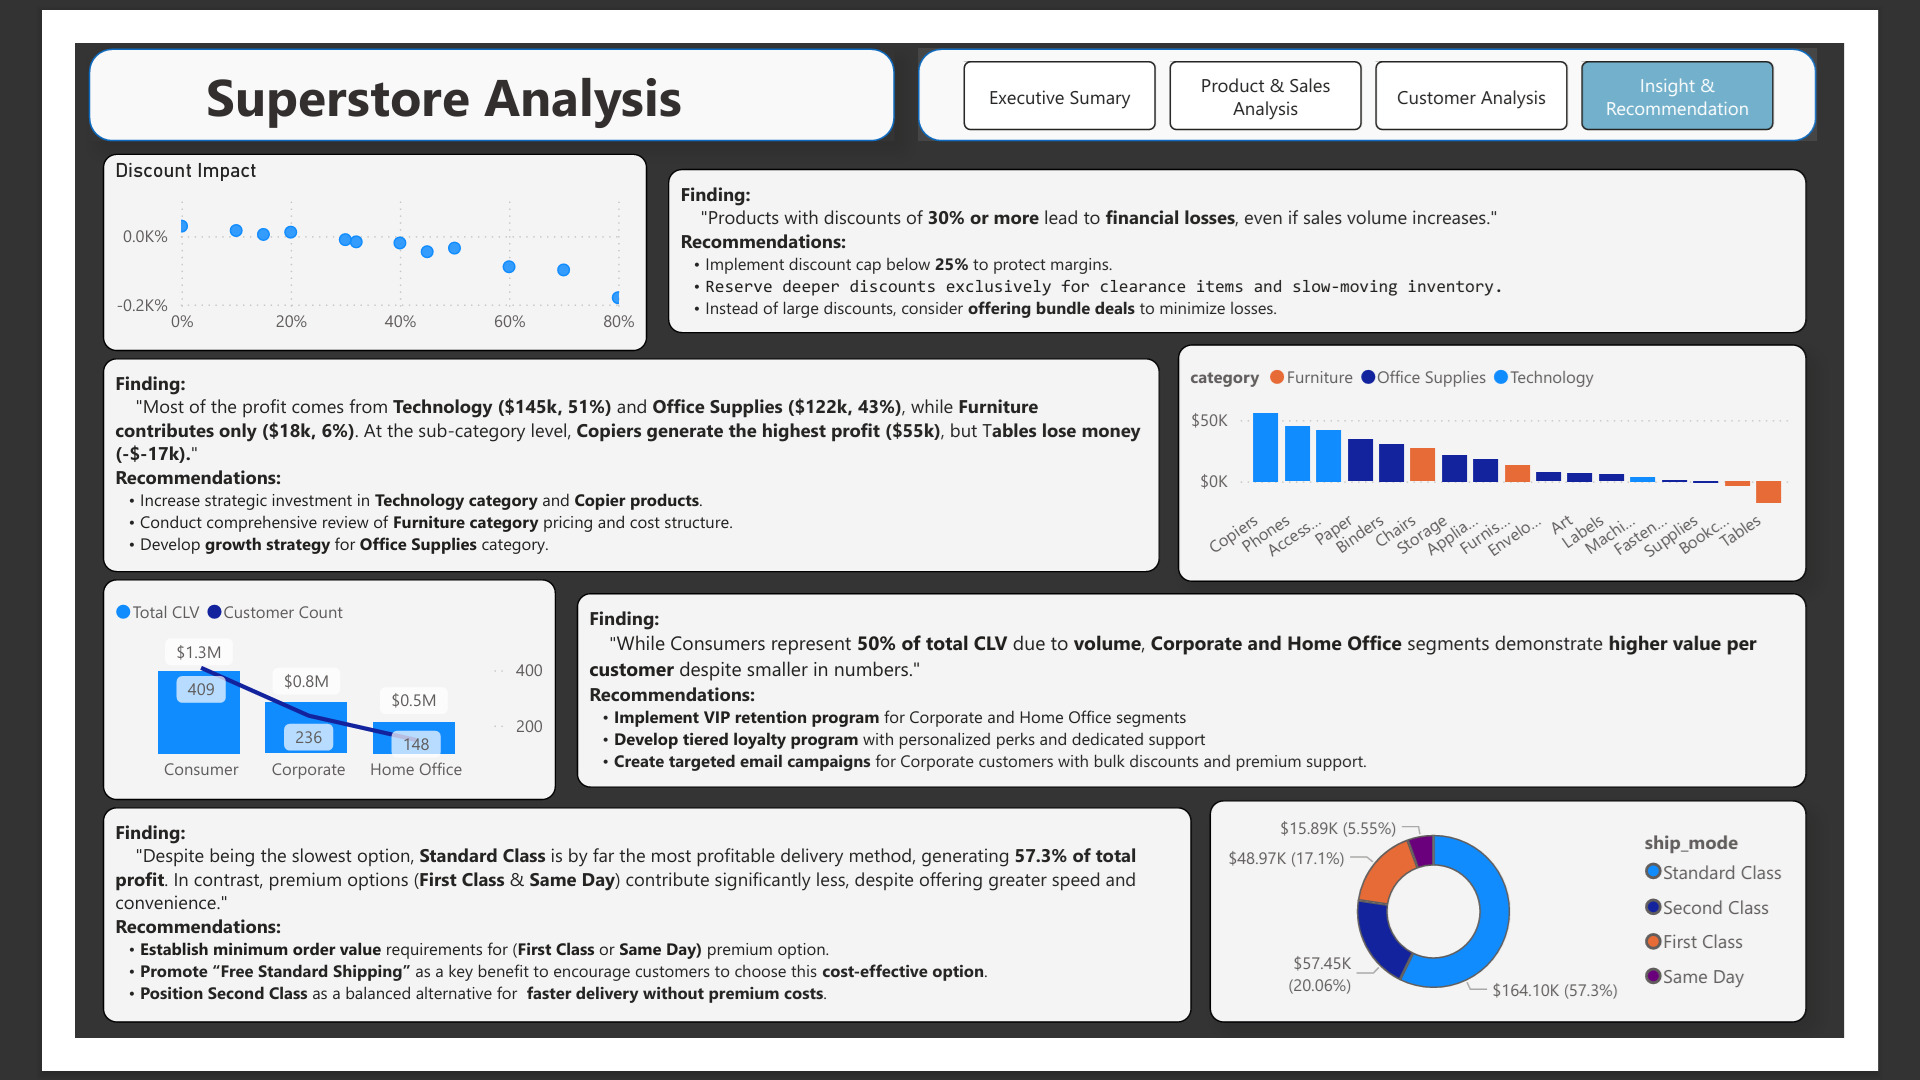

Layout of this report page (visuals, bound fields, positions):
{"tool":"powerbi","page":{"name":"Insight & Recommendation","canvas":[1280,720],"ordinal":3},"visuals":[{"type":"shape","box":[10,4.3,582.9,67.1],"z":0},{"type":"shape","box":[610,4.3,650,67.1],"z":1000},{"type":"pageNavigator","box":[642.9,12.9,585.7,50],"z":2000},{"type":"scatterChart","title":"Discount Impact","fields":{"X":["public fact_order.discount"],"Y":["Calcs.Profit Margin"]},"box":[20,80,393.8,142.5],"z":3000},{"type":"columnChart","title":"Performace by Category","fields":{"Category":["public dim_product.sub_category"],"Y":["Calcs.Total Profit"],"Series":["public dim_product.category"]},"box":[797.5,217.5,455,172.5],"z":4000},{"type":"donutChart","title":"Ship Mode Performance","fields":{"Category":["public shipment.ship_mode"],"Y":["Calcs.Total Profit"]},"box":[821.2,547.5,431.2,161.2],"z":5000},{"type":"textbox","box":[428.8,91.2,823.8,118.8],"z":6000},{"type":"textbox","box":[20,227.5,765,155],"z":7000},{"type":"textbox","box":[362.5,397.5,890,141.2],"z":8000},{"type":"lineStackedColumnComboChart","fields":{"Category":["public dim_customer.segment"],"Y":["public dim_customer.Total CLV"],"Y2":["CLV Table.Customer Count"]},"box":[20,387.5,327.5,160],"z":9000},{"type":"textbox","box":[20,552.5,787.5,156.2],"z":10000}]}

Visuals, with their boxes in screenshot pixels (x1, y1, x2, y2), scaled from the page's 1280x720 canvas onto the 1920x1080 screenshot:
shape: (15, 6, 889, 107)
shape: (915, 6, 1890, 107)
pageNavigator: (964, 19, 1843, 94)
"Discount Impact" scatterChart: (30, 120, 621, 334)
"Performace by Category" columnChart: (1196, 326, 1879, 585)
"Ship Mode Performance" donutChart: (1232, 821, 1879, 1063)
textbox: (643, 137, 1879, 315)
textbox: (30, 341, 1178, 574)
textbox: (544, 596, 1879, 808)
lineStackedColumnComboChart - public dim_customer.segment x public dim_customer.Total CLV: (30, 581, 521, 821)
textbox: (30, 829, 1211, 1063)
